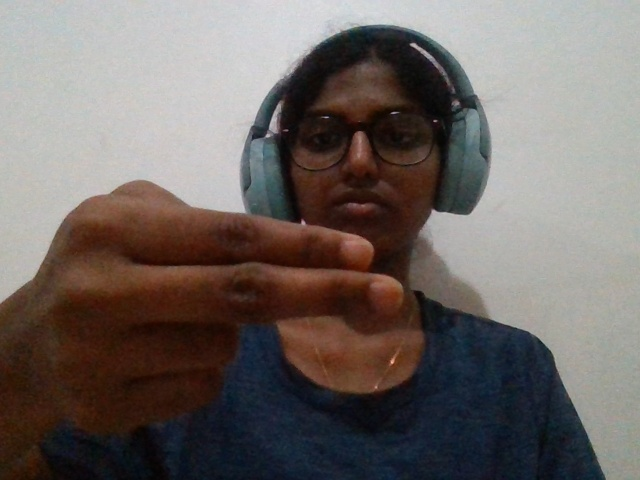H: (6, 140, 420, 478)
